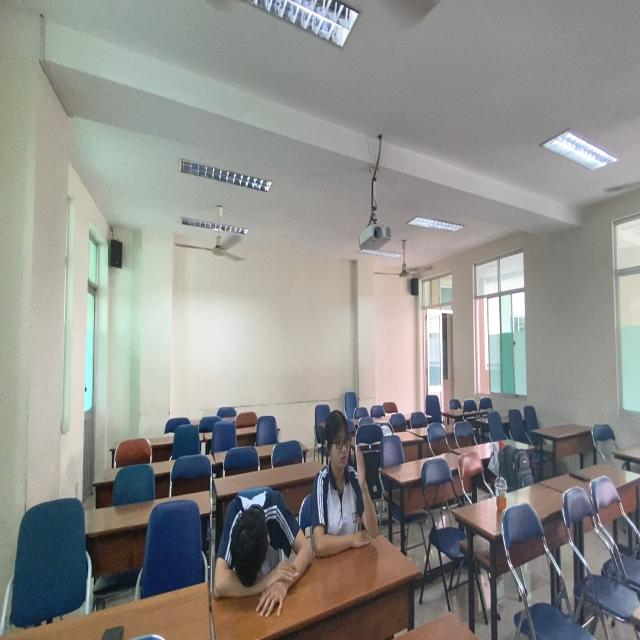raise_hand: (313, 406, 385, 561)
sleep: (209, 479, 316, 628)
